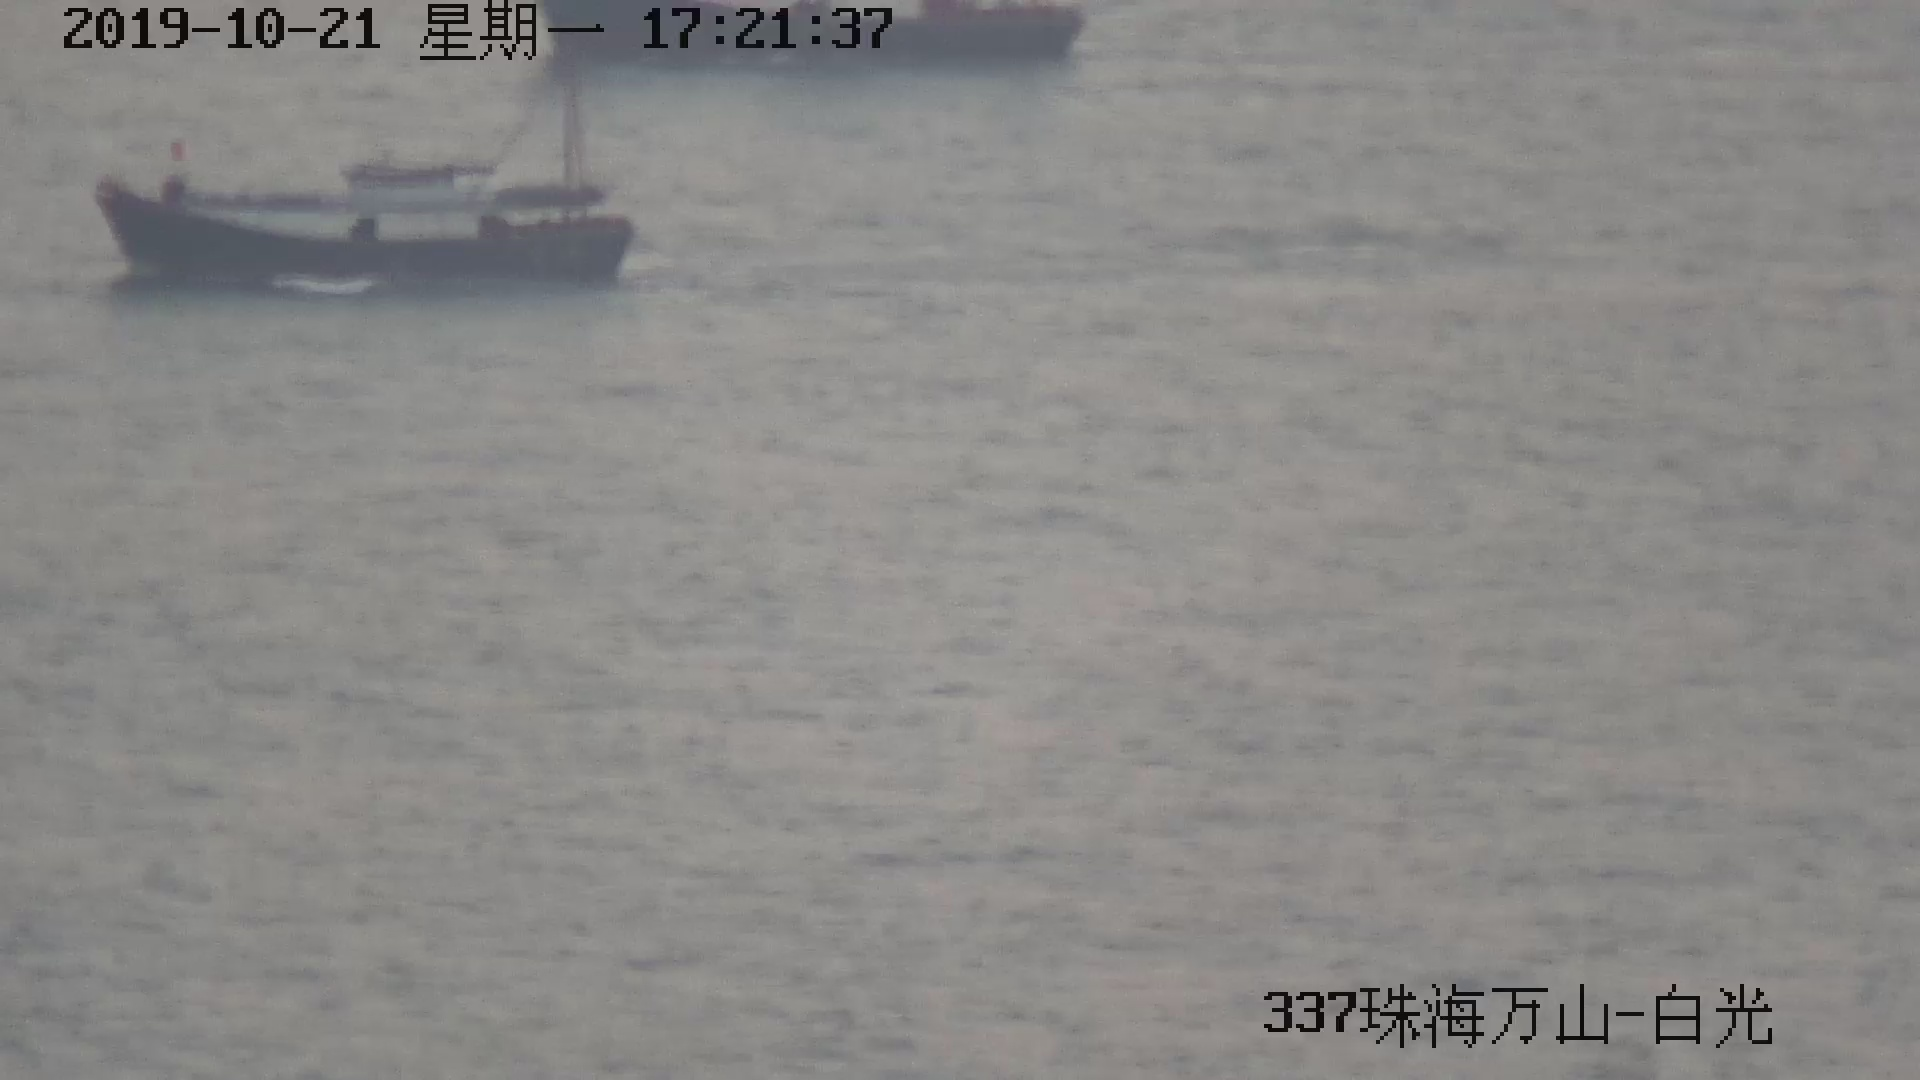ship: (88, 150, 646, 294)
